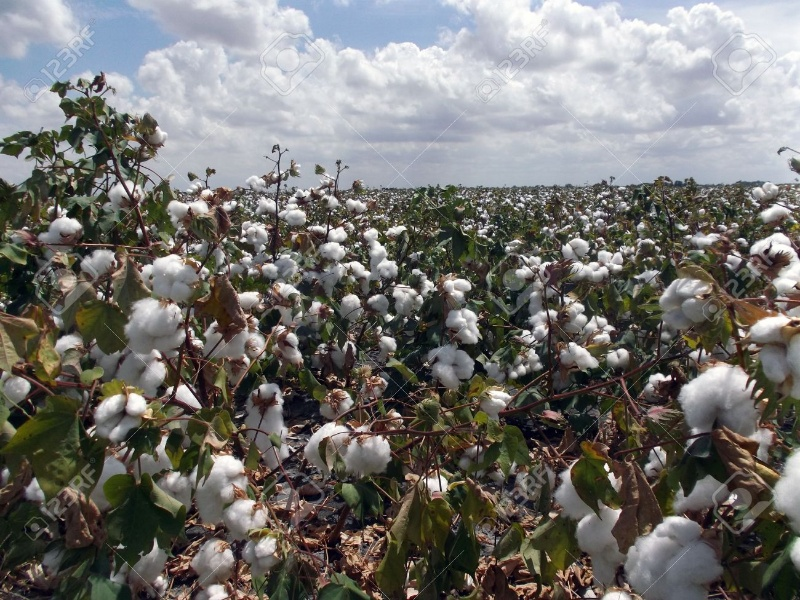cotton: (1, 174, 798, 597), (14, 108, 185, 172)
